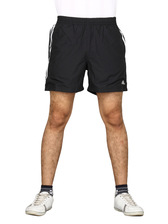clothoes: (45, 14, 132, 97)
shoes: (114, 185, 146, 221), (27, 187, 57, 219)
